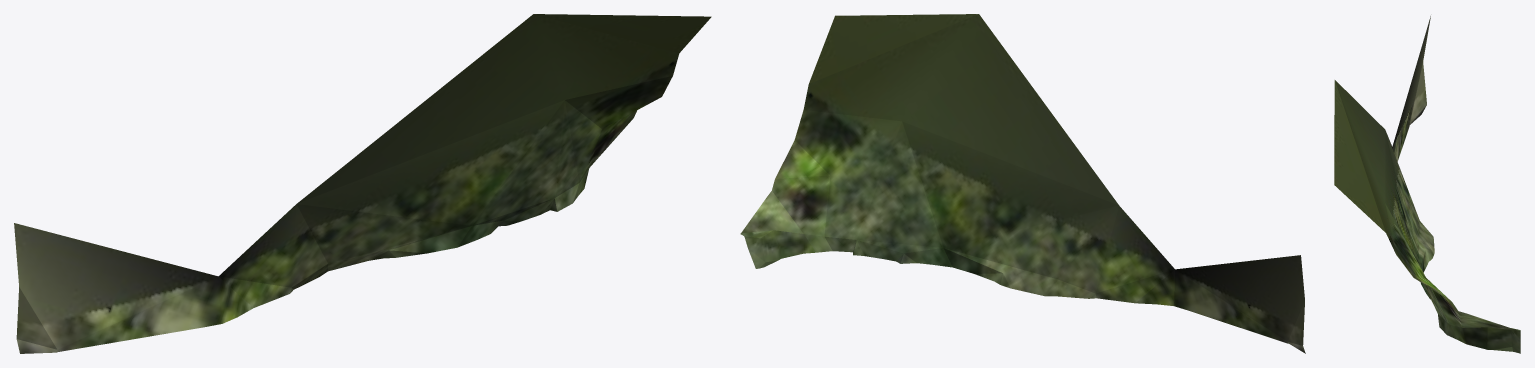
The picture shows the model from 3 angles, left to right: view 1: azimuth 30°, elevation 25°; view 2: azimuth 150°, elevation 25°; view 3: azimuth 270°, elevation 25°; orthographic projection. The views are drawn at different scales.
Bounding box in the file's own units: 26.11 × 10.51 × 8.34.
1 material, 1 textured.
